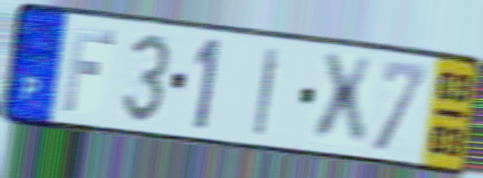1: (191, 36, 223, 135)
3: (116, 31, 175, 126)
7: (375, 58, 430, 155)
F: (60, 24, 119, 115)
I: (251, 44, 283, 140)
X: (312, 51, 376, 149)
